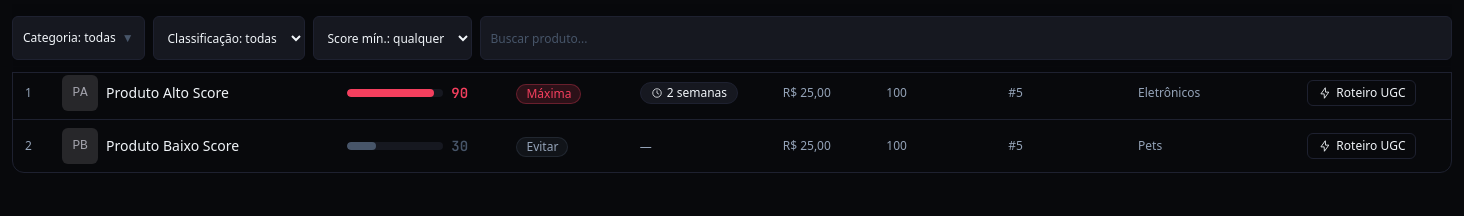
Test: <ProductsTable /> › nenhum resultado: EmptyState em vez de tabela vazia
This screenshot has width=1464, height=216.
Type "produto que não existe" into the search field with placeholder "Buscar produto...". click: (966,38)
box: [480,16,1452,60]
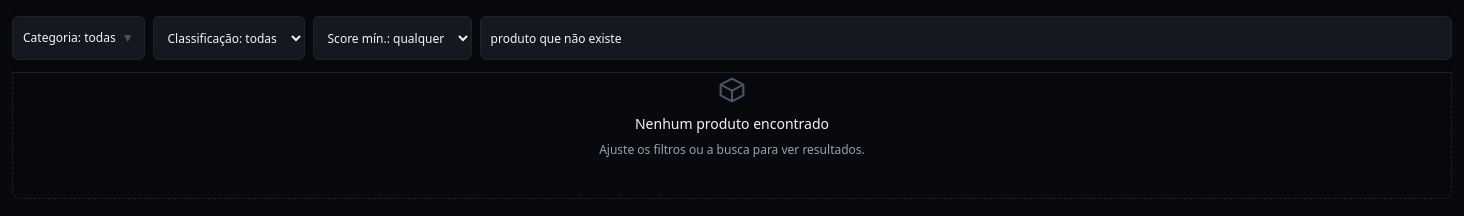
Check: the text "Nenhum produto encontrado" is shown, box [635,114,829,134]
